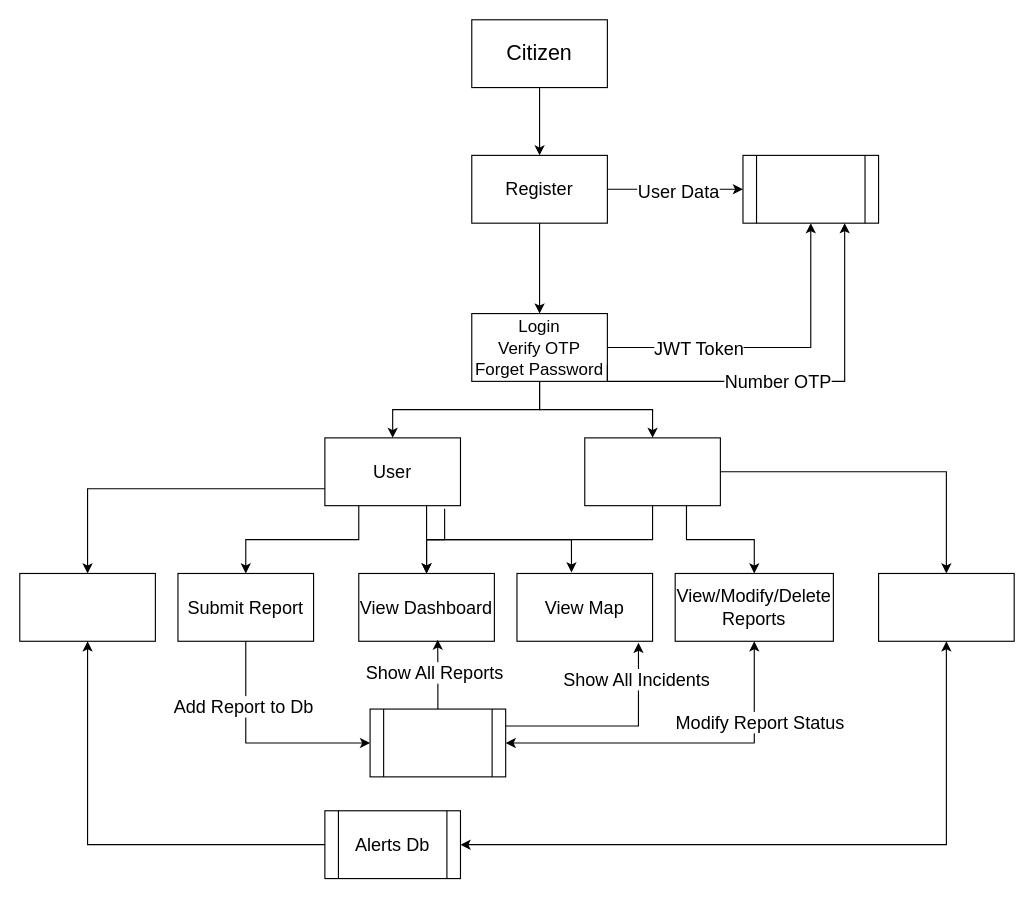
Some shapes in this 1034 by 898 pixel diagram are drawn without their labels. The shapes that lost their labels are listed below. From the top down, each one's centre as x and y in pixels, then its label:
At (810,188): "User Db".
At (652,471): "Admin".
At (87,606): "View ALerts".
At (945,606): "View/Edit?Send Alerts".
At (437,742): "Reports Db".
